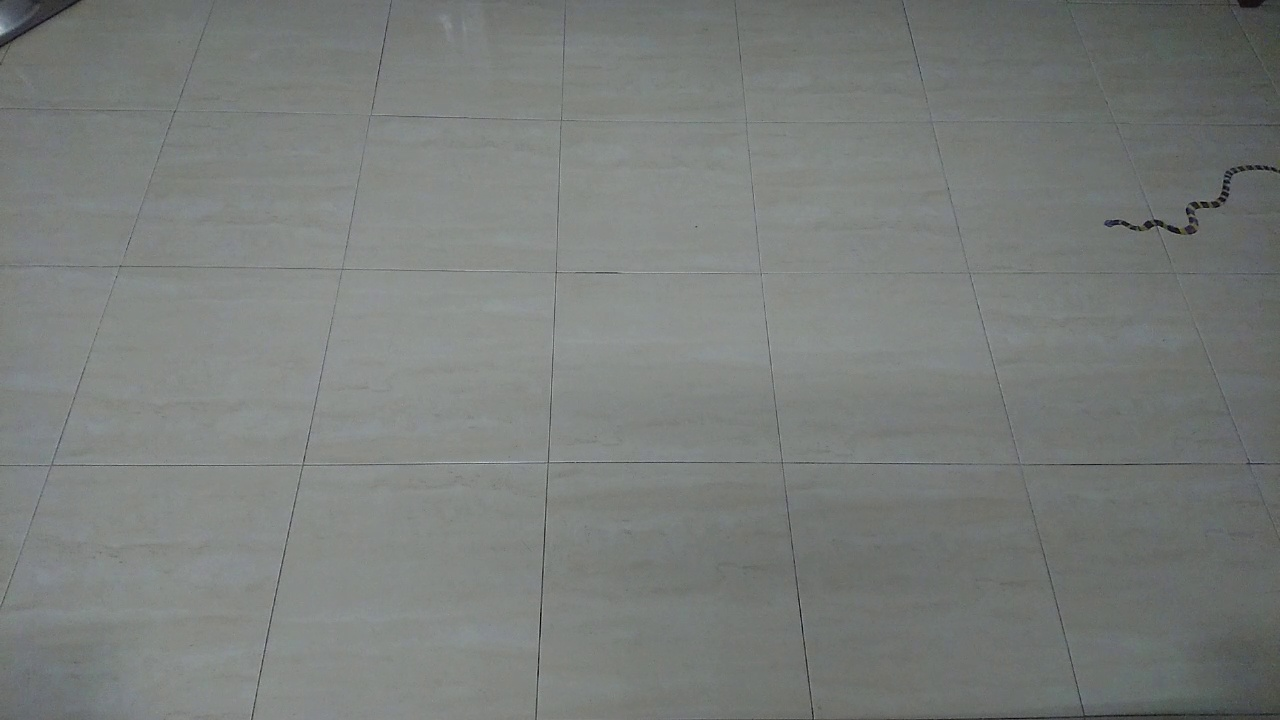snake: (1086, 154, 1280, 252)
